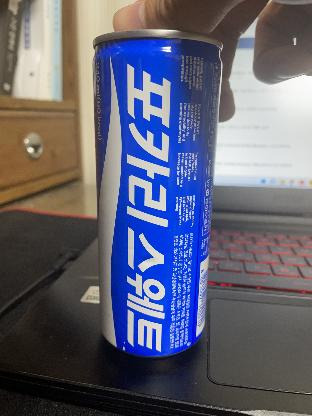Can: (92, 31, 224, 354)
